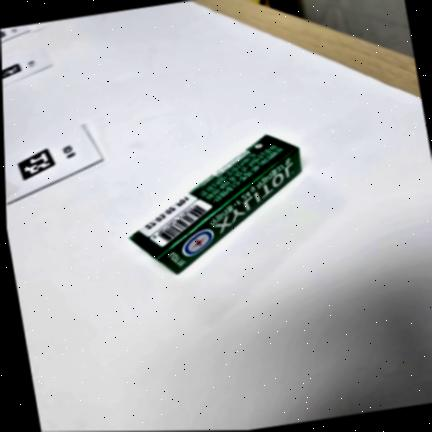gum_green: (130, 135, 301, 273)
